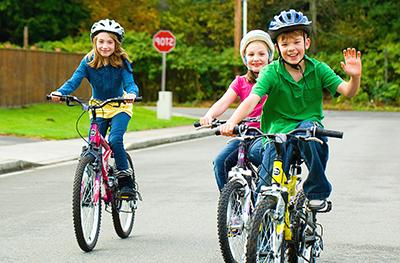With Helmet: (272, 7, 315, 64), (89, 17, 130, 57)
